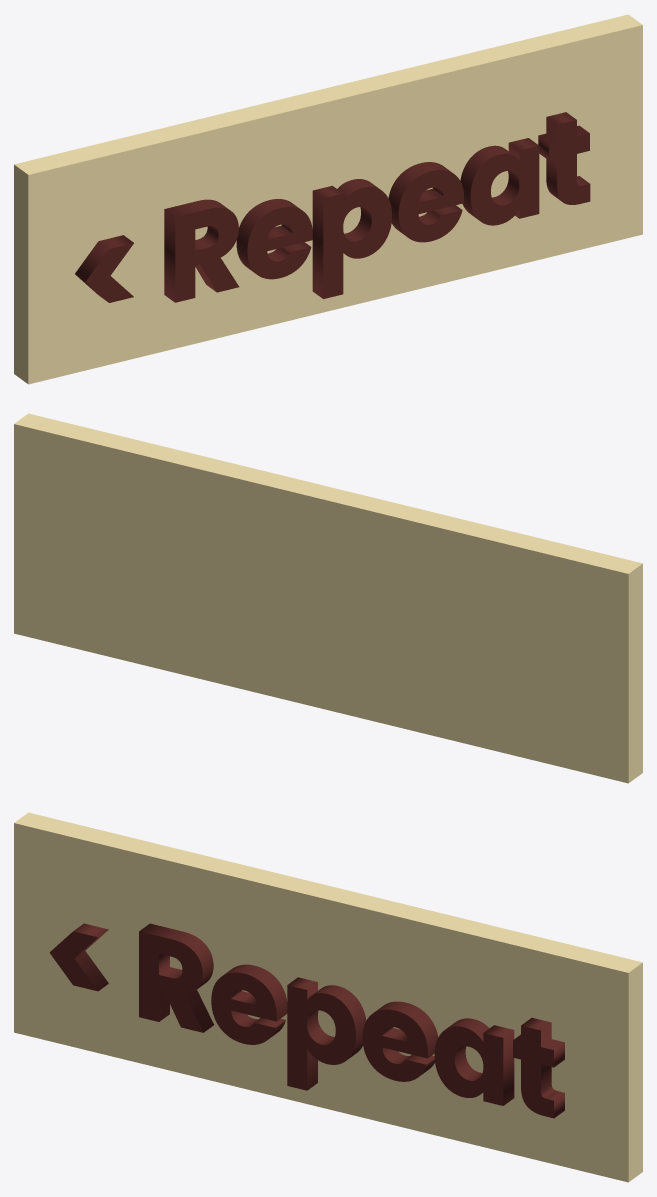
The model's file is repeatButton.gltf.
3 renders of one model, top to bottom at view 1: azimuth 30°, elevation 25°; view 2: azimuth 150°, elevation 25°; view 3: azimuth 330°, elevation 25°, orthographic.
Parts seen in each view (by area): view 1: repeatButton, Text.003; view 2: repeatButton; view 3: repeatButton, Text.003.
Part boxes in pixels (x1,y1,x2,y2): repeatButton: (14,14,642,384); Text.003: (75,112,590,302); repeatButton: (14,413,642,783); repeatButton: (14,812,642,1182); Text.003: (49,923,564,1118).
Size of the model in its own units: 3.07 by 1 by 0.2186.
